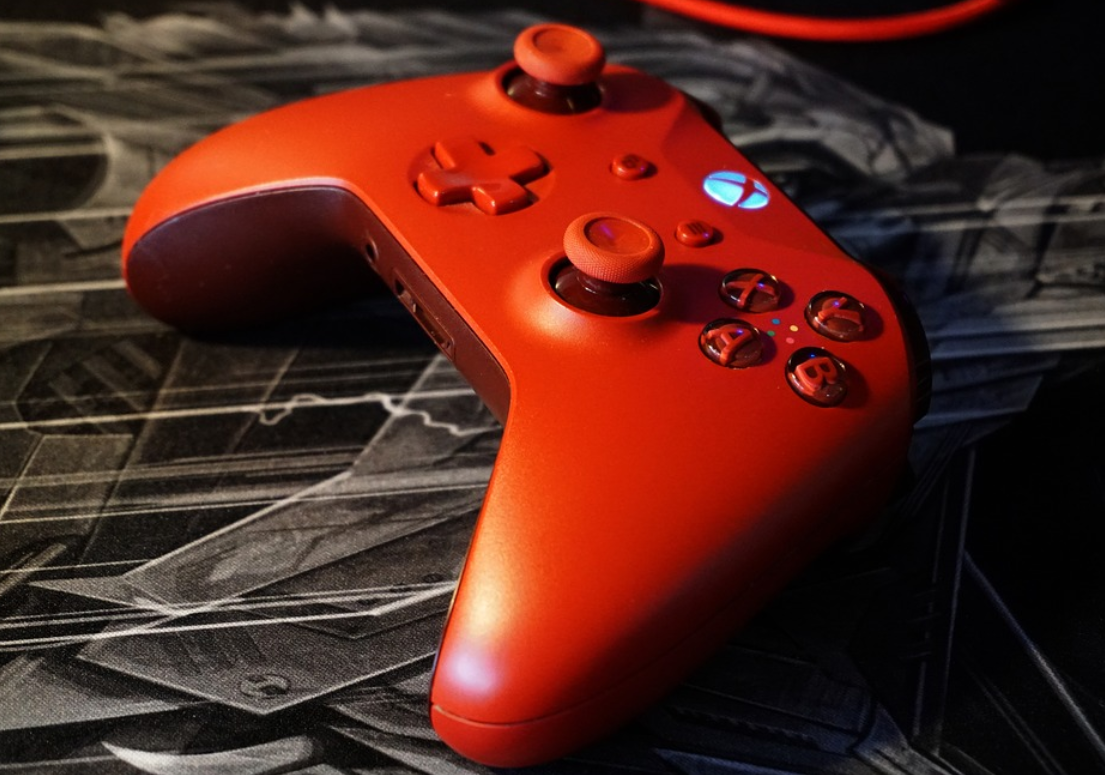gamingconsole: (123, 33, 908, 759)
